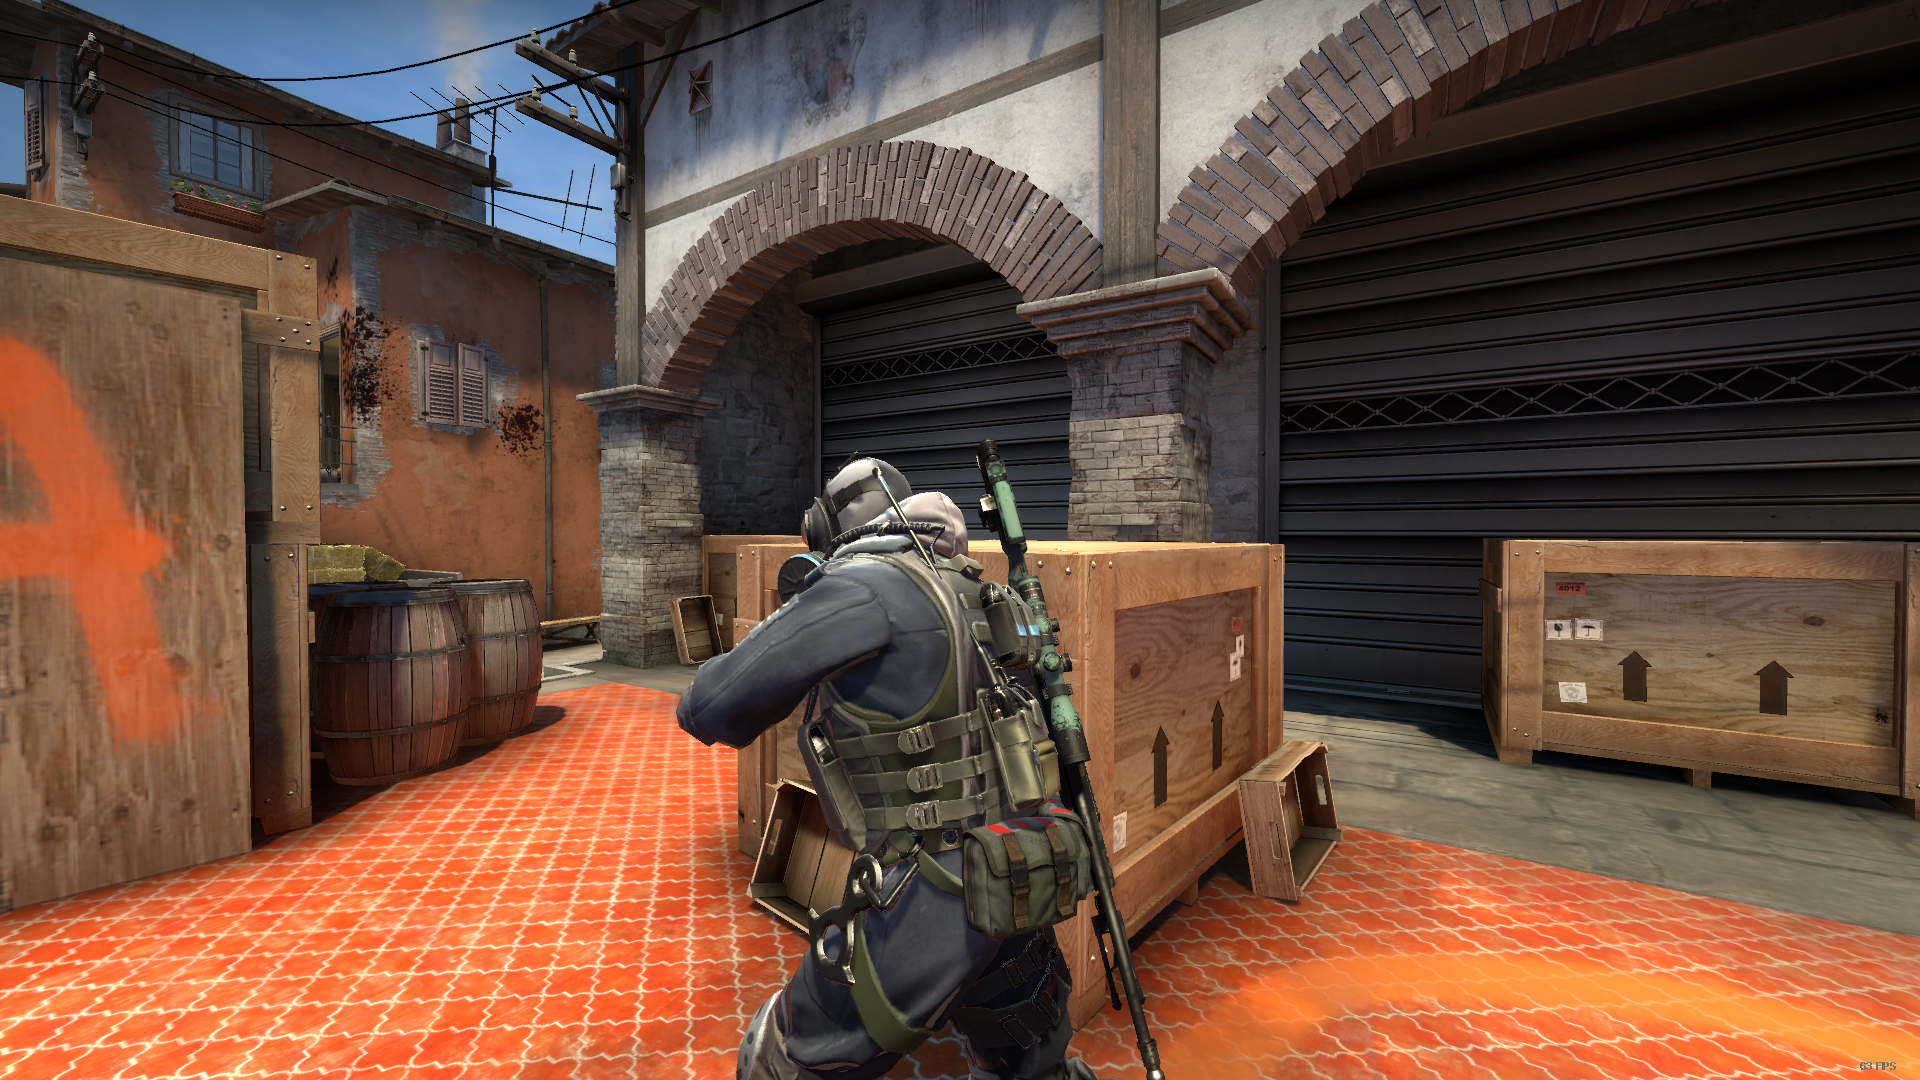ct: (674, 455, 1089, 1080)
